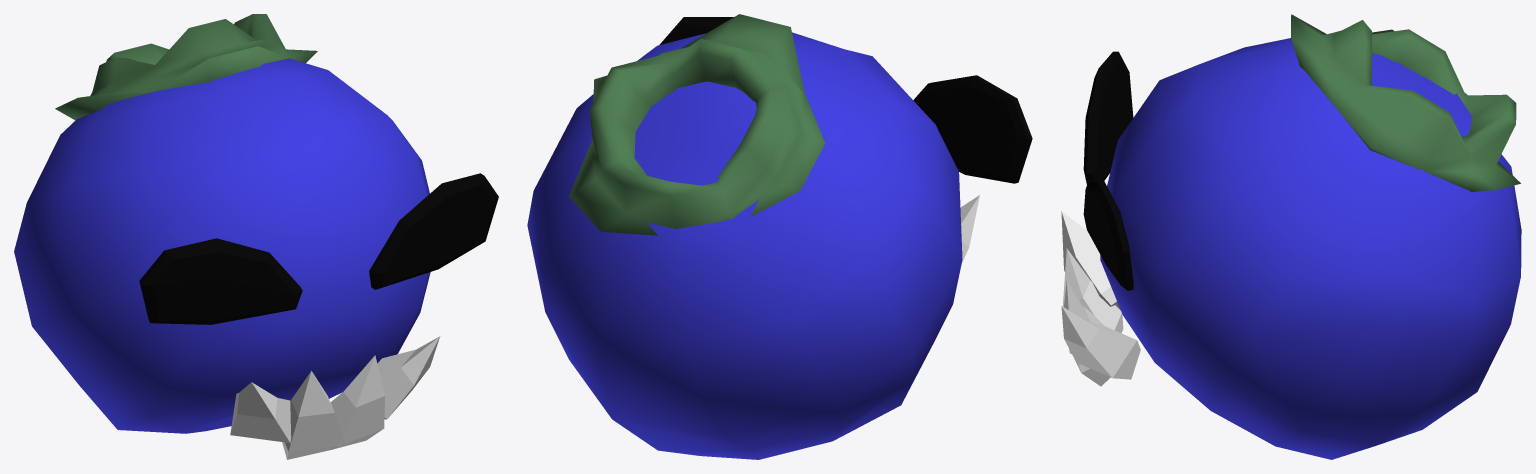
Rendered from Enemy_Blueberry (2).fbx.
The picture shows the model from 3 angles, left to right: view 1: azimuth 30°, elevation 25°; view 2: azimuth 150°, elevation 25°; view 3: azimuth 270°, elevation 25°; orthographic projection. The views are drawn at different scales.
Parts seen in each view (by area): view 1: Enemy_BlueberryModel; view 2: Enemy_BlueberryModel; view 3: Enemy_BlueberryModel.
Boxes of the visible parts, box(x1,y1,x2,y2) form: Enemy_BlueberryModel: box(14, 14, 498, 459); Enemy_BlueberryModel: box(527, 14, 1032, 459); Enemy_BlueberryModel: box(1061, 14, 1521, 459).
Bounding box in the file's own units: 11.43 × 11.96 × 12.17.
